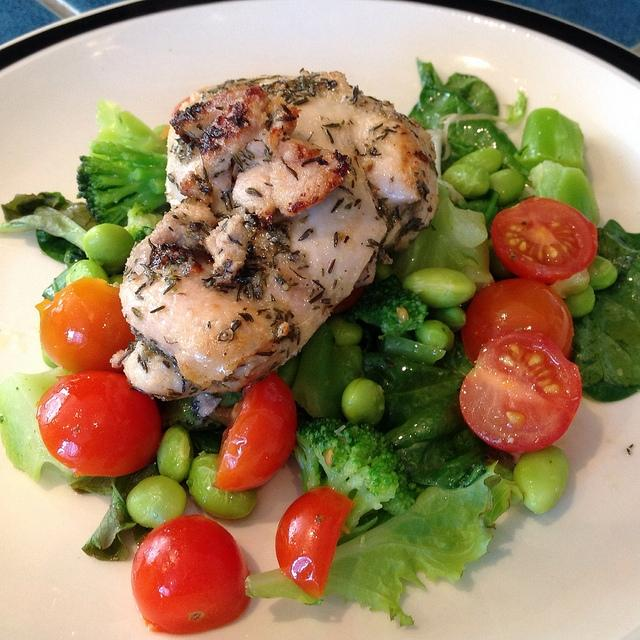broccoli: (292, 418, 399, 535), (76, 98, 170, 228), (336, 271, 428, 341), (154, 397, 222, 432), (124, 202, 164, 242)
lettuce: (245, 459, 528, 627), (356, 318, 496, 487), (570, 220, 639, 402), (2, 365, 87, 482), (81, 464, 161, 562), (0, 192, 100, 258), (441, 119, 534, 188), (94, 97, 168, 155)
tomato: (459, 332, 582, 452), (130, 514, 250, 636), (36, 371, 162, 477), (461, 278, 574, 368), (212, 372, 296, 490), (34, 277, 135, 374), (491, 196, 598, 284), (276, 486, 354, 600)
